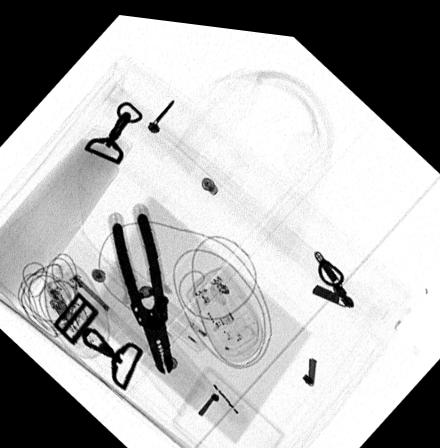Pliers: (109, 206, 172, 371)
